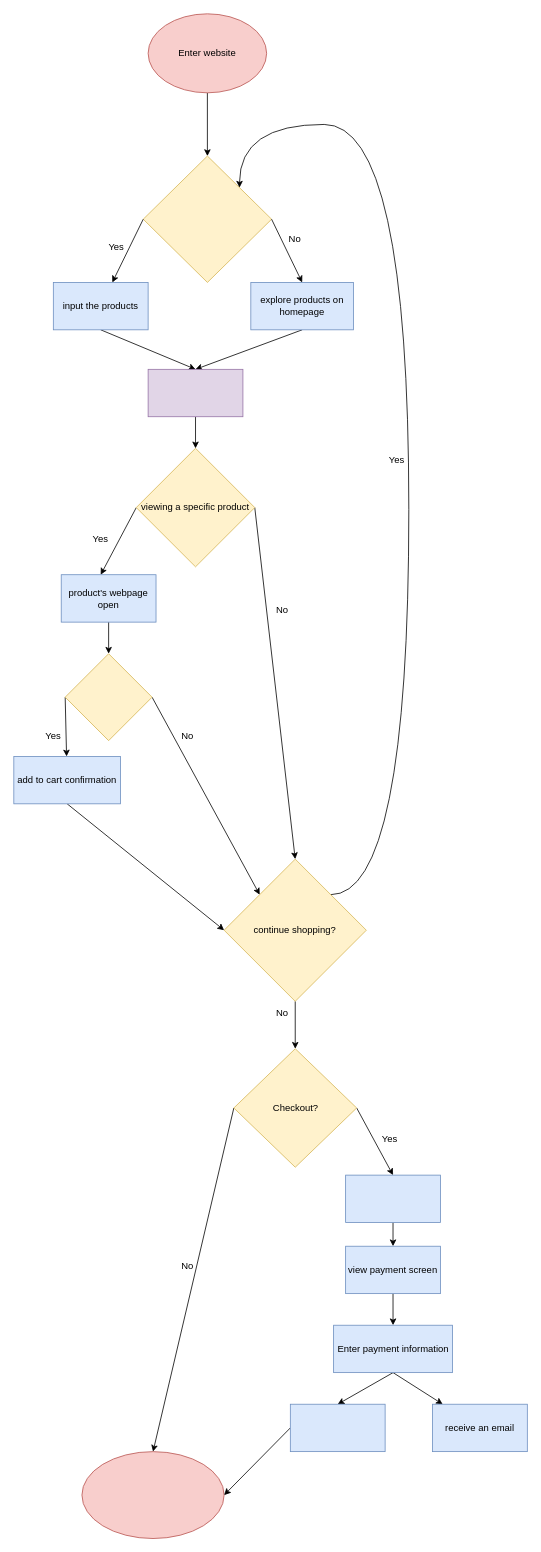
Image size: 541x1552. Some labels were removed from this diagram. Each missing label, with the centre of its shape:
"add item to cart?" goes at point 108,697.
"Leave website" goes at point 152,1495.
"looking over the products" goes at point 195,393.
"order confirmation" goes at point 337,1427.
"Search for products?" goes at point 207,218.
"view cart screen" goes at point 392,1198.
